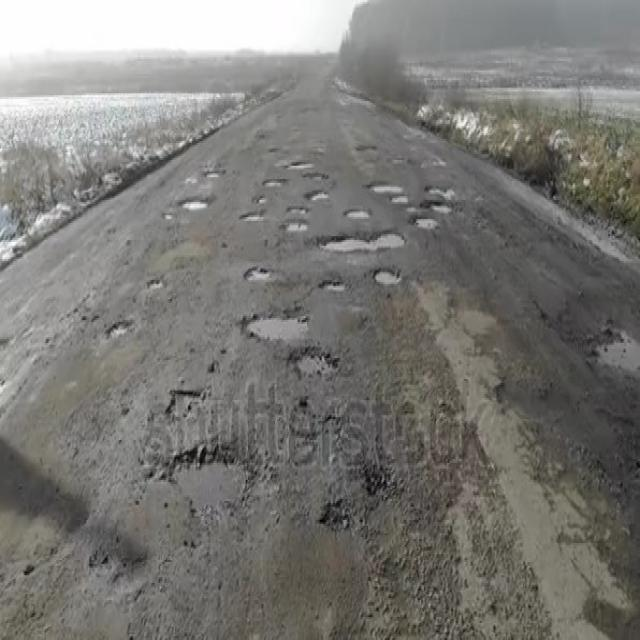pothole: (169, 434, 255, 519), (318, 456, 396, 529), (236, 305, 324, 342), (589, 327, 640, 386), (289, 343, 346, 374), (163, 389, 212, 421), (314, 271, 354, 297), (108, 317, 141, 345), (144, 274, 176, 299), (243, 266, 272, 283), (364, 267, 398, 279)
